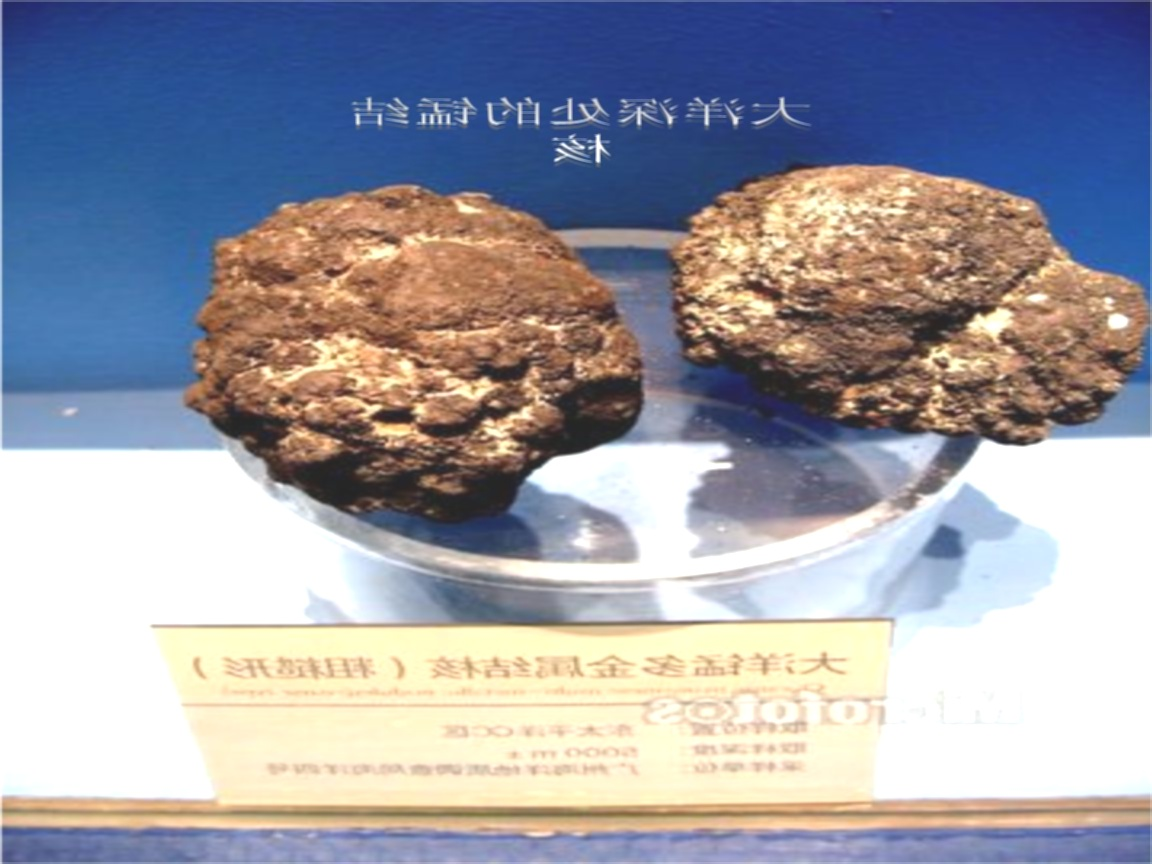halobolite: (202, 172, 664, 525), (659, 161, 1144, 452)
